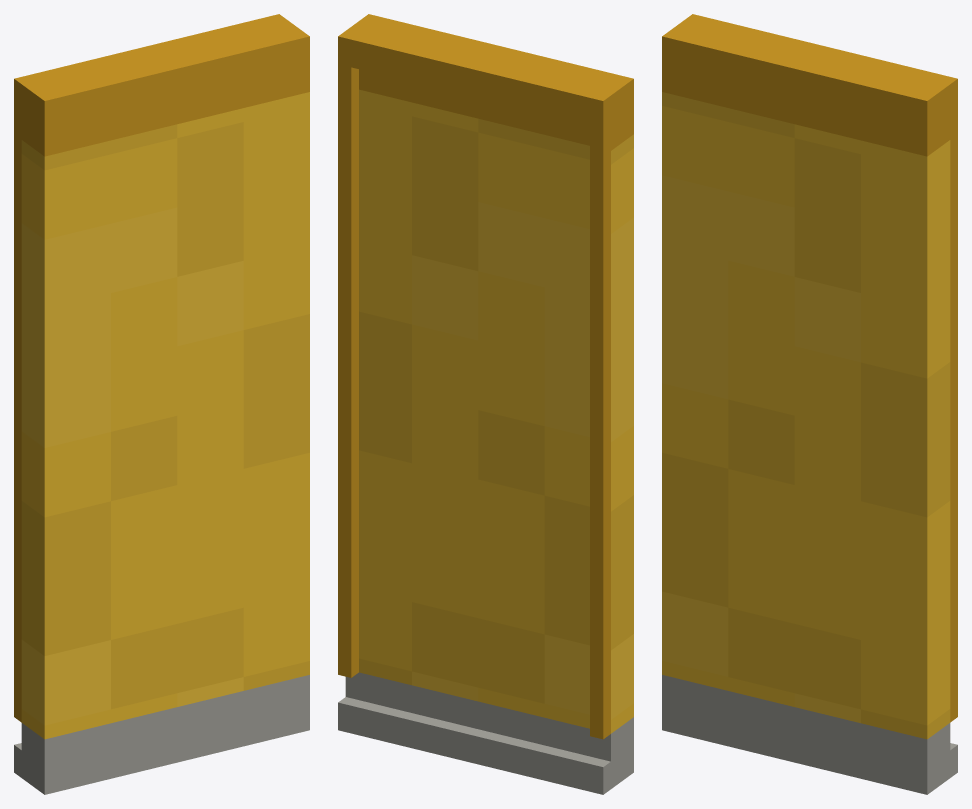
File: ws_wall_half.glb
3 views of the same model, side by side, from view 1: azimuth 30°, elevation 25°; view 2: azimuth 150°, elevation 25°; view 3: azimuth 330°, elevation 25° (orthographic).
Visible parts, largest first — view 1: wall; view 2: wall; view 3: wall.
Part boxes in pixels (left/top/right/bottom): wall: left=14, top=14, right=309, bottom=794; wall: left=338, top=14, right=633, bottom=794; wall: left=662, top=14, right=957, bottom=794.
Bounding box in the file's own units: 2 × 5 × 0.4.
